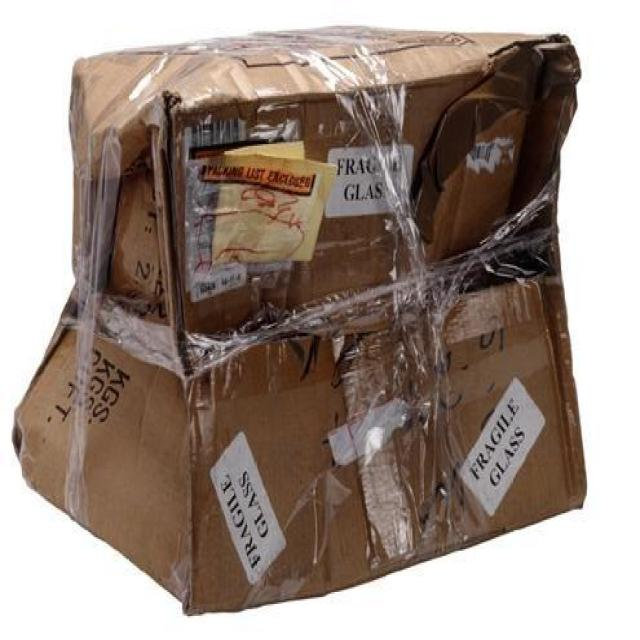cardboard: (12, 24, 589, 618)
